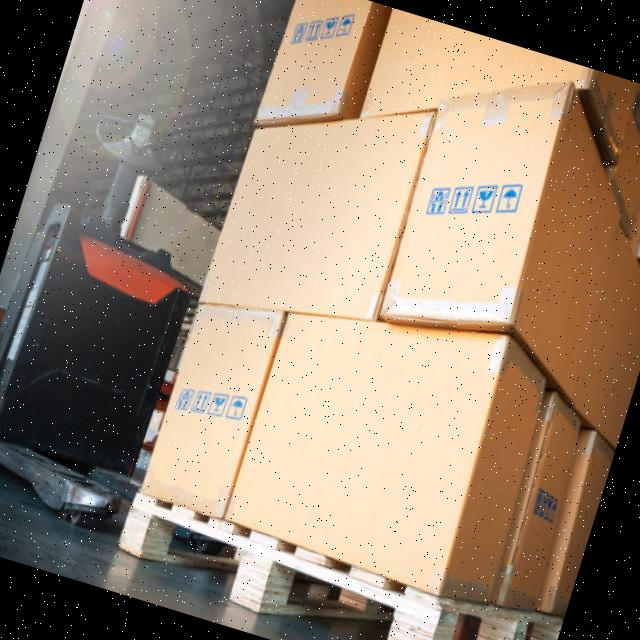Wooden-Pallets: (115, 487, 561, 640)
